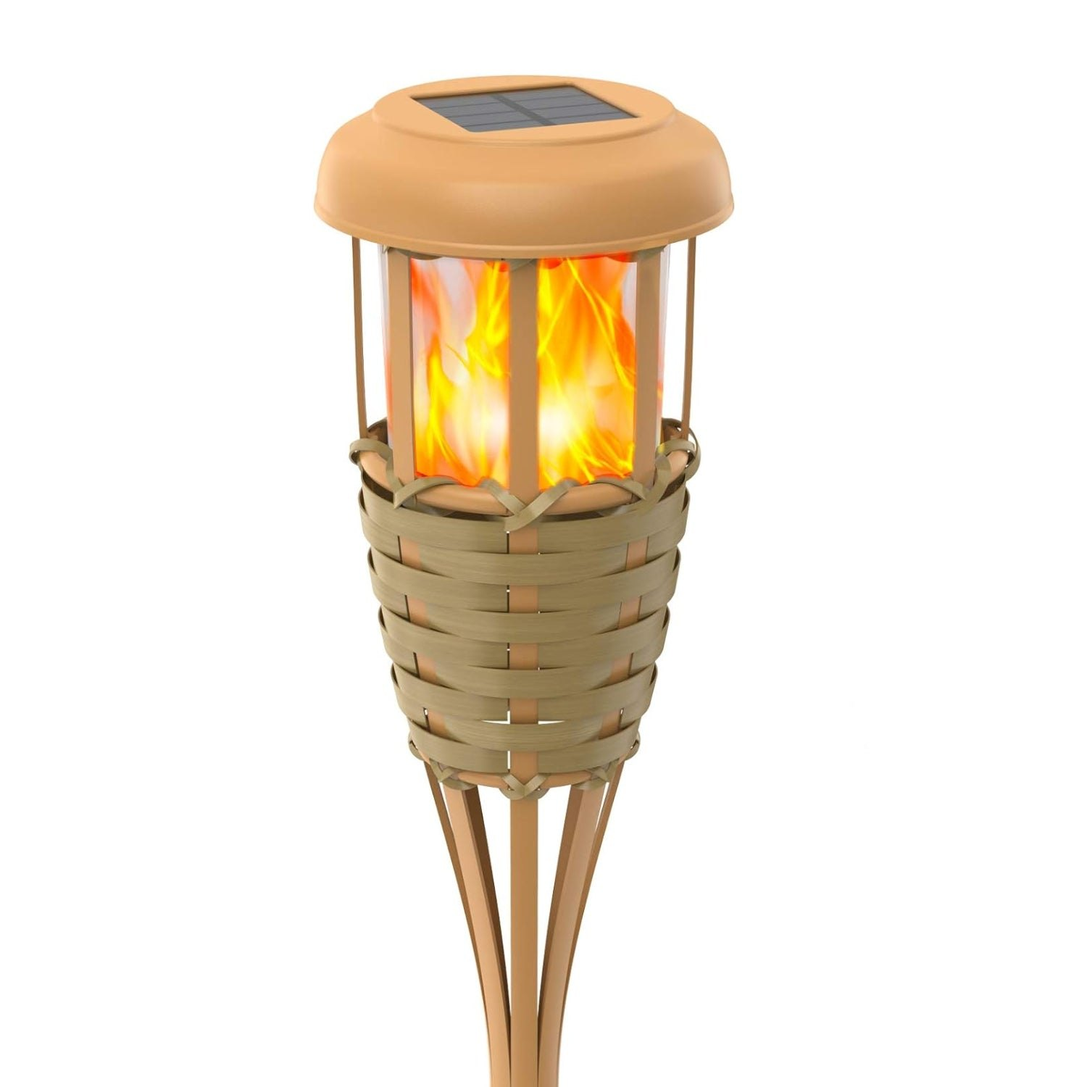Open-Flame-Hazard: (286, 53, 759, 1087)
